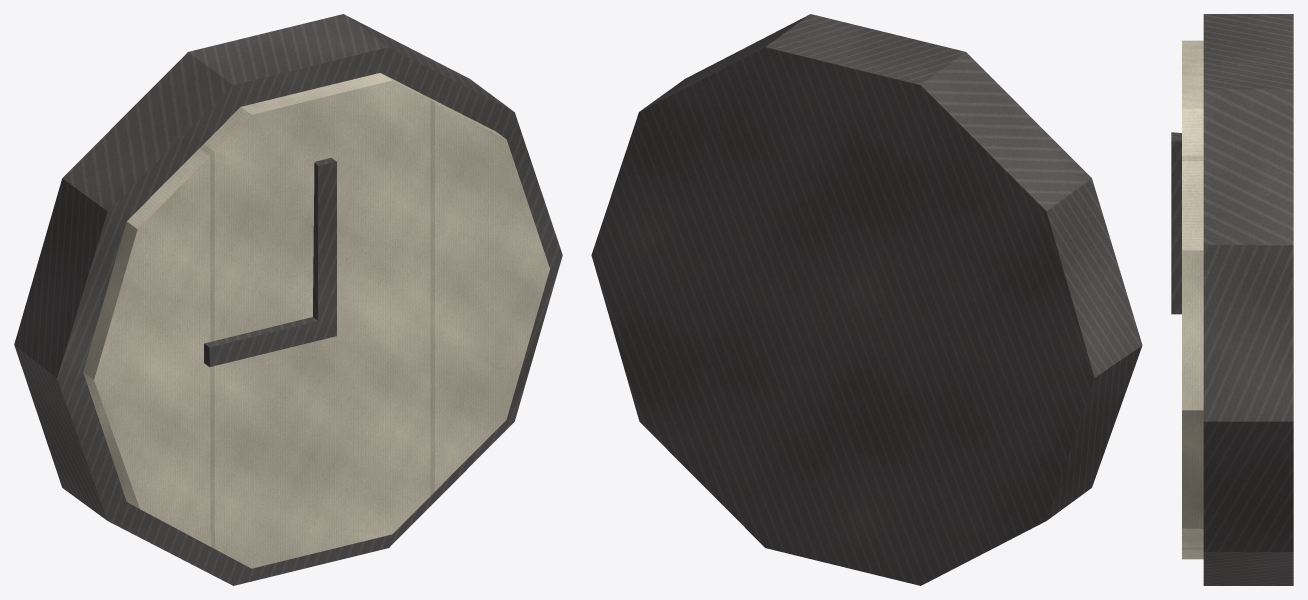
Rendered from wallclock_v2.glb.
3 views of the same model, side by side, from view 1: azimuth 30°, elevation 25°; view 2: azimuth 150°, elevation 25°; view 3: azimuth 270°, elevation 25° (orthographic).
Visible parts, largest first — view 1: Variant_wallclock_2; view 2: Variant_wallclock_2; view 3: Variant_wallclock_2.
Part boxes in pixels (box(x1,y1,x2,y2)): Variant_wallclock_2: box(14, 14, 562, 585); Variant_wallclock_2: box(591, 14, 1142, 585); Variant_wallclock_2: box(1171, 14, 1293, 585).
Bounding box in the file's own units: 0.3216 × 0.3043 × 0.068.
2 materials, 2 textured.
